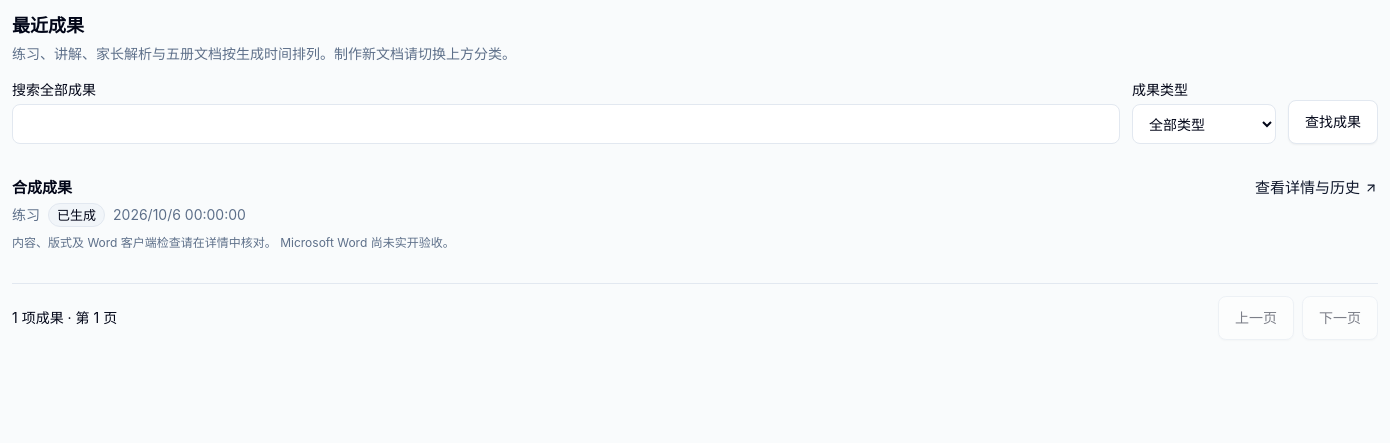
Scenario: distinguishes no match and restores results after clearing filters without changing household scope
This screenshot has width=1390, height=443.
Expected: the text "内容、版式及 Word 客户端检查请在详情中核对。 Microsoft Word 尚未实开验收。" is shown, [12,235,455,250]
Select "练习与复测" in the dropdown labelled "成果类型": (1204, 124) [1132,104,1276,144]
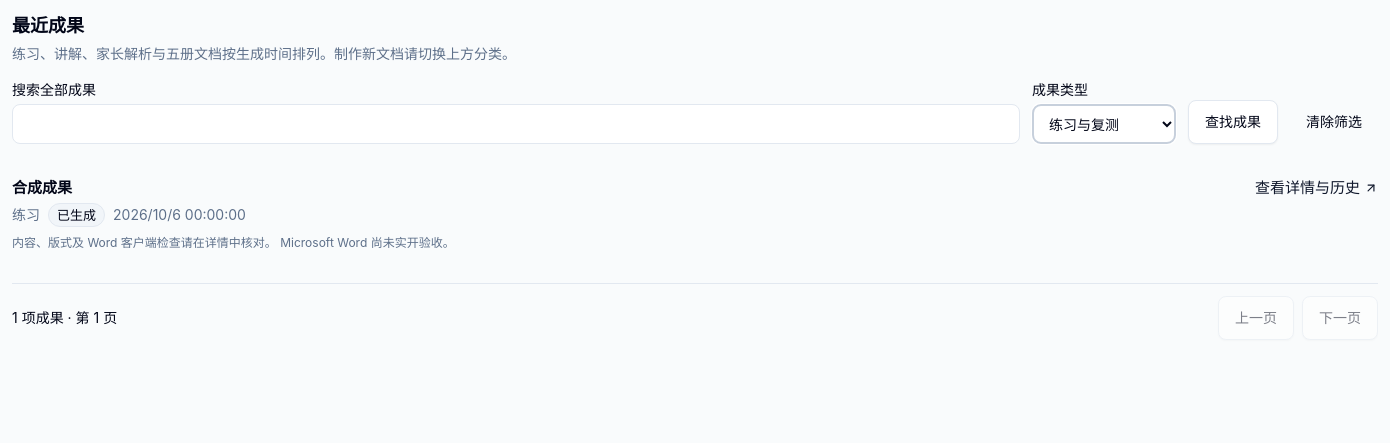
In the search field: (516, 124) [12,104,1020,144], type "分数"
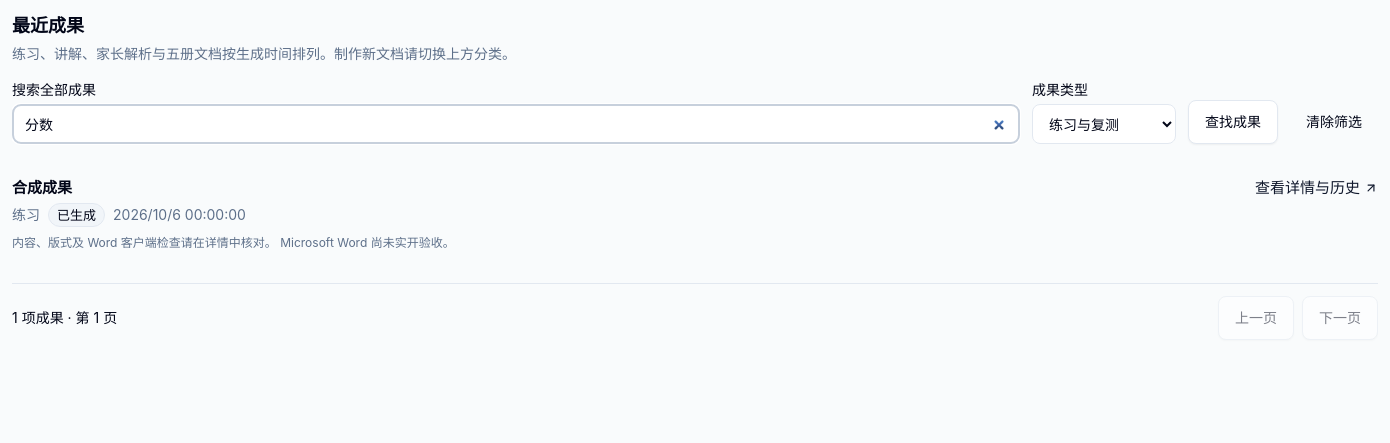
Click the button "查找成果": (1233, 122) [1188,100,1278,144]
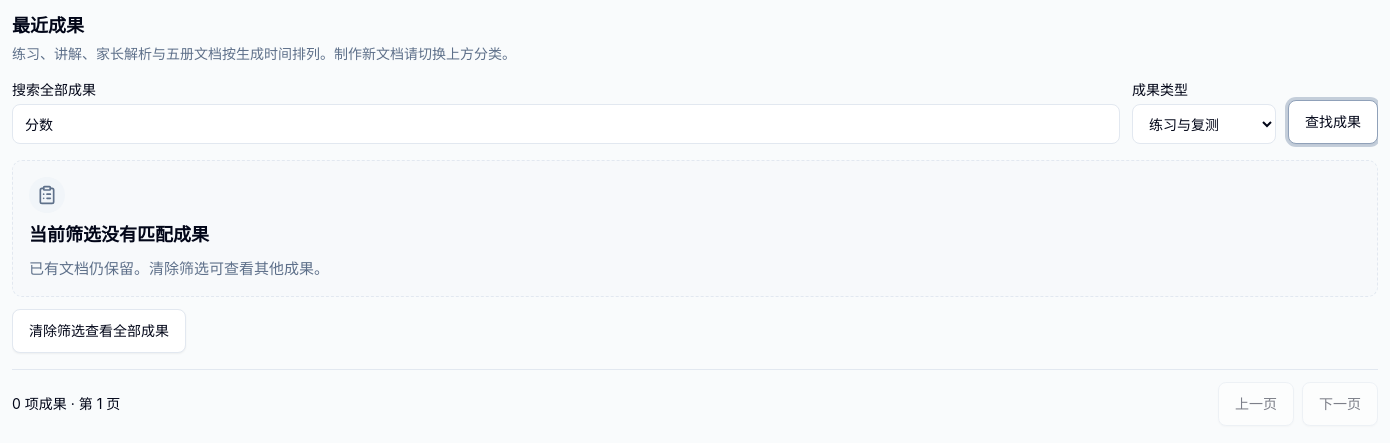
Now the heading "当前筛选没有匹配成果" is shown, box [29,221,209,249]
Now the text "已有文档仍保留。清除筛选可查看其他成果。" is shown, box [29,257,329,280]
Click the button "清除筛选查看全部成果": (99, 331) [12,309,186,353]
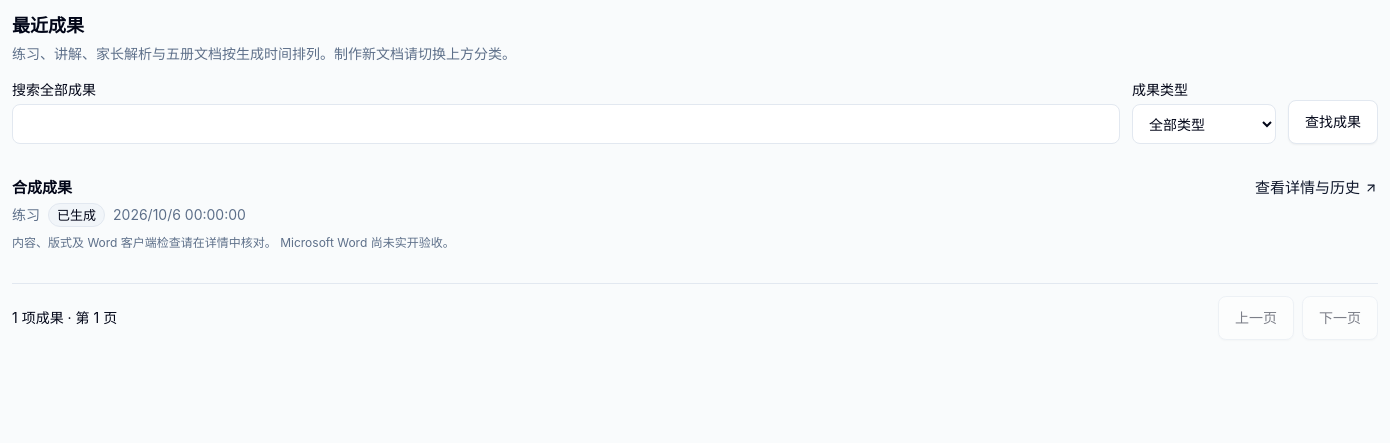
Now the heading "合成成果" is shown, box [12,178,72,197]
Now the search field is empty, box [12,104,1120,144]
